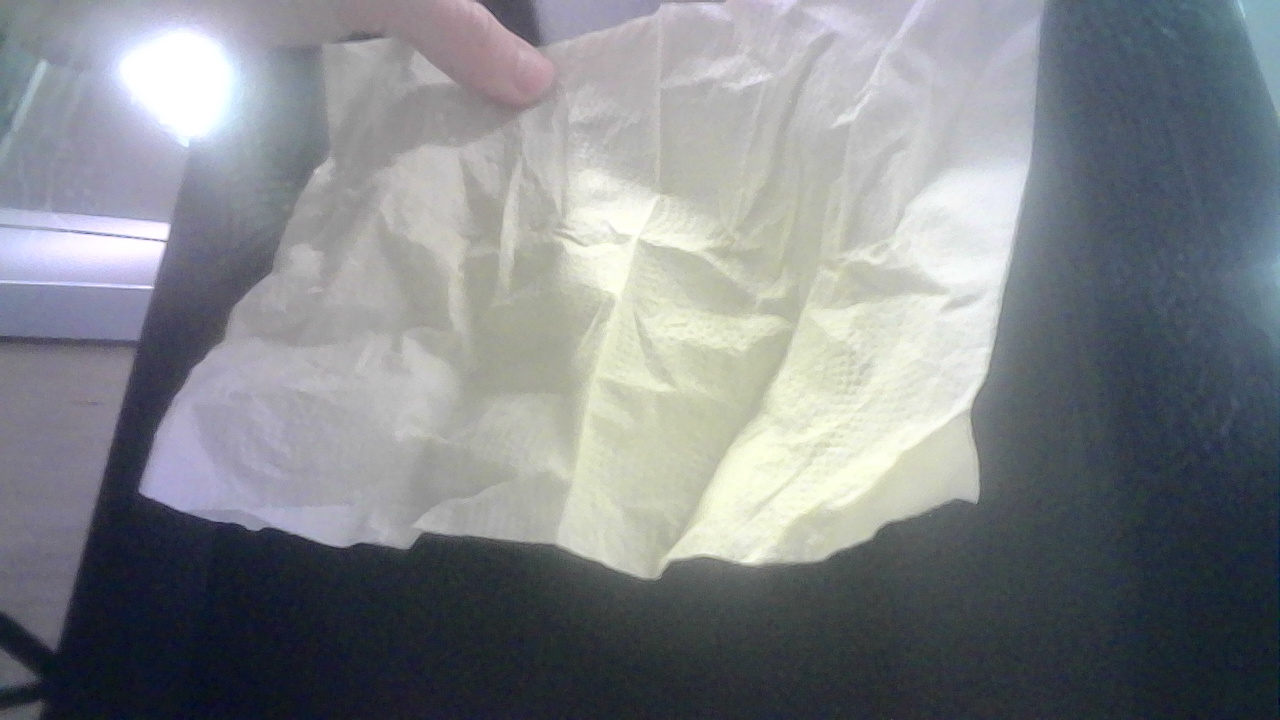Paper_Recycling: (135, 4, 1057, 558)
